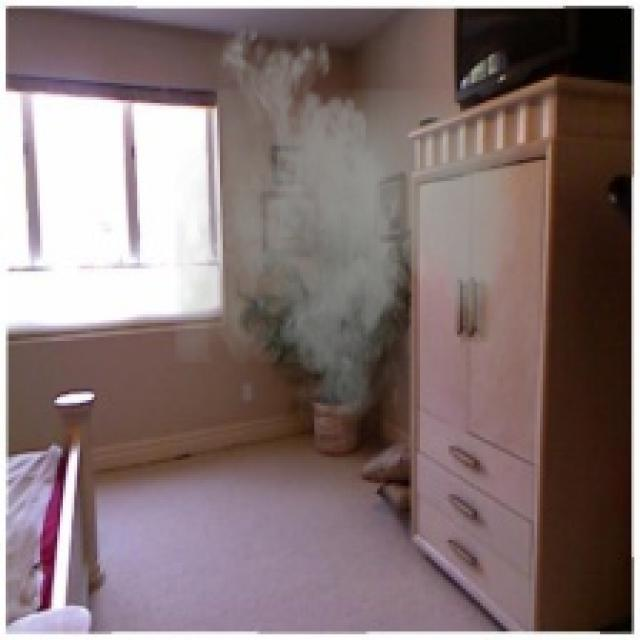Smoke: (175, 14, 520, 437)
